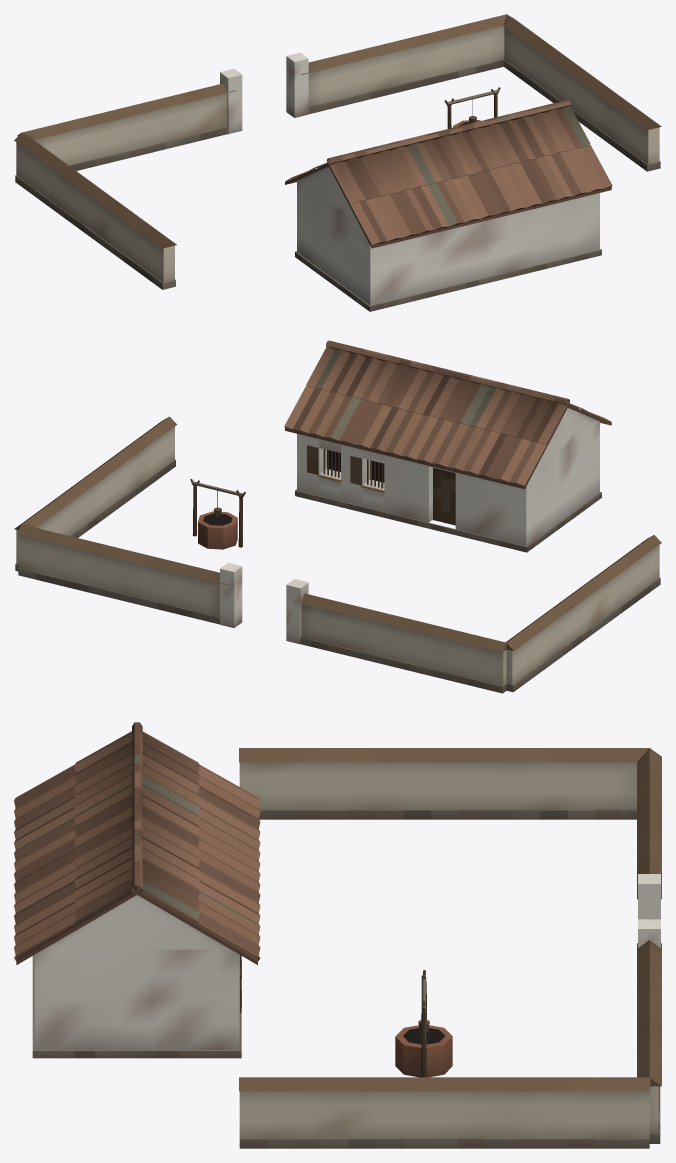
The model's file is casa_quinta_b.glb.
The picture shows the model from 3 angles, top to bottom: view 1: azimuth 30°, elevation 25°; view 2: azimuth 150°, elevation 25°; view 3: azimuth 270°, elevation 25°; orthographic projection. The views are drawn at different scales.
Visible parts, largest first — view 1: casa_quinta_b; view 2: casa_quinta_b; view 3: casa_quinta_b.
Part boxes in pixels (<box>): casa_quinta_b: <box>14,14,661,311</box>; casa_quinta_b: <box>14,340,661,693</box>; casa_quinta_b: <box>14,722,661,1148</box>.
Bounding box in the file's own units: 19.61 × 4.73 × 15.81.
